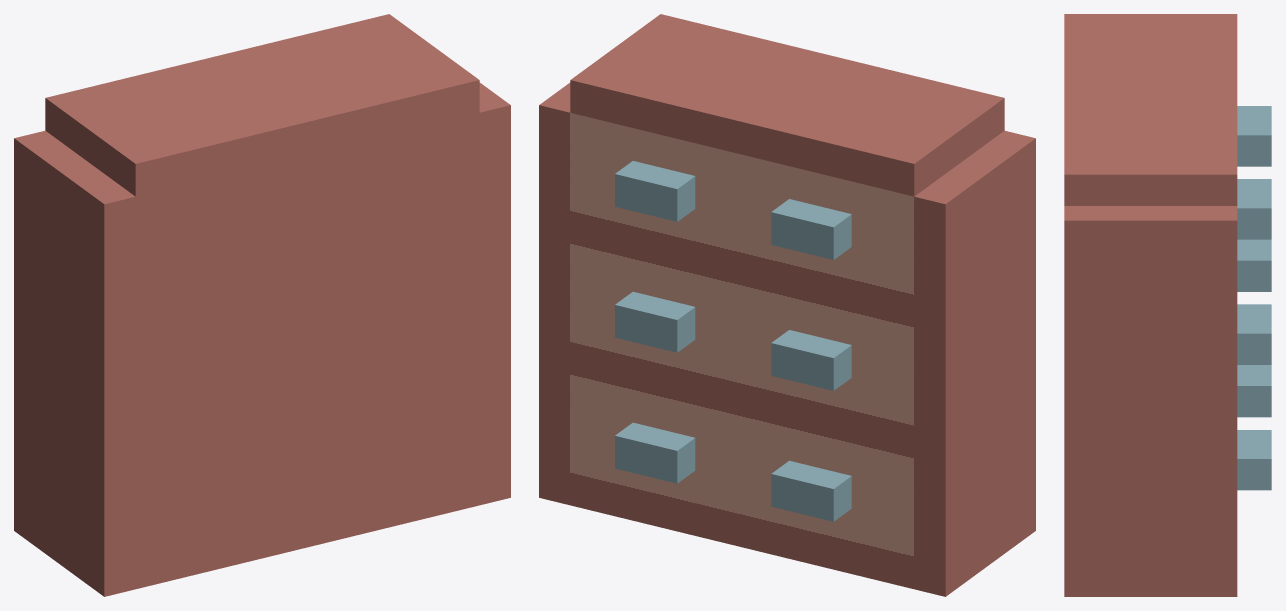
The model's file is commode2.obj.
3 views of the same model, side by side, from view 1: azimuth 30°, elevation 25°; view 2: azimuth 150°, elevation 25°; view 3: azimuth 270°, elevation 25° (orthographic). The views are drawn at different scales.
Visible parts, largest first — view 1: commode2; view 2: commode2; view 3: commode2.
Boxes of the visible parts, left/top/right/bottom form: commode2: left=14, top=14, right=510, bottom=596; commode2: left=539, top=14, right=1035, bottom=596; commode2: left=1064, top=14, right=1271, bottom=596.
Bounding box in the file's own units: 1.3 × 1.3 × 0.6.
Materials: 1 (1 with a texture image).
